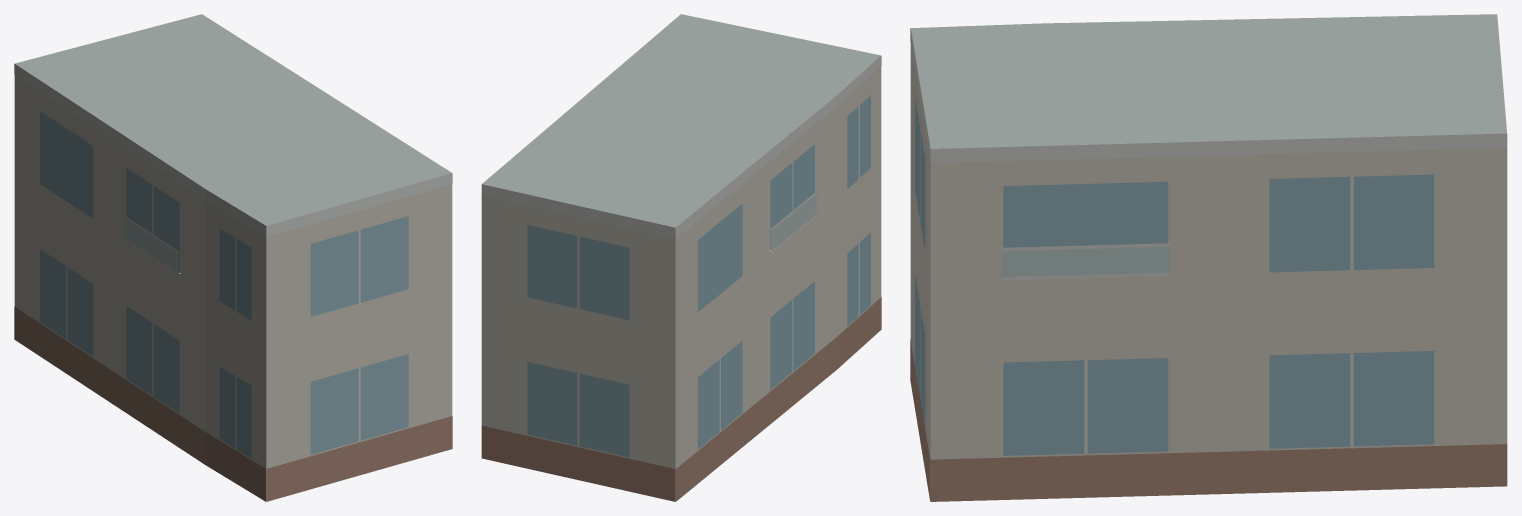
File: survey-upis-32984136.glb
3 views of the same model, side by side, from view 1: azimuth 30°, elevation 25°; view 2: azimuth 150°, elevation 25°; view 3: azimuth 270°, elevation 25° (orthographic). The views are drawn at different scales.
Visible parts, largest first — view 1: survey-upis-32984136.tmp; view 2: survey-upis-32984136.tmp; view 3: survey-upis-32984136.tmp.
Boxes of the visible parts, <box> form: survey-upis-32984136.tmp: <box>14,14,452,501</box>; survey-upis-32984136.tmp: <box>481,14,881,501</box>; survey-upis-32984136.tmp: <box>910,14,1507,501</box>.
Size of the model in its own units: 5.02 by 6.1 by 9.36.
